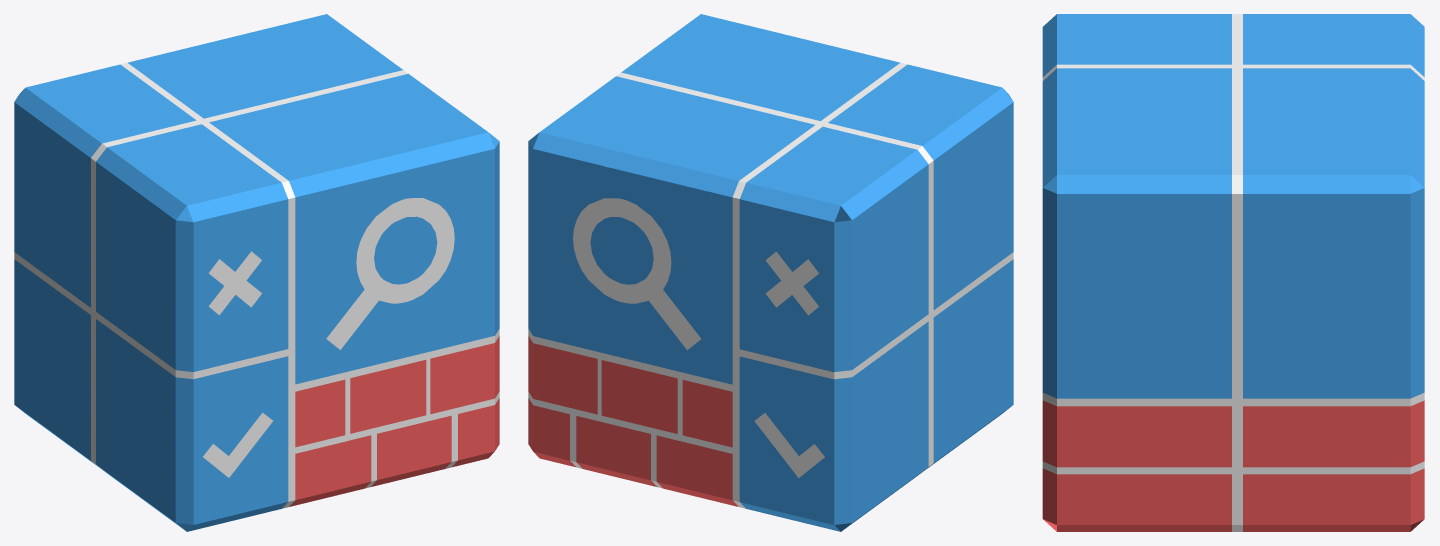
Rendered from IPS.obj.
3 views of the same model, side by side, from view 1: azimuth 30°, elevation 25°; view 2: azimuth 150°, elevation 25°; view 3: azimuth 270°, elevation 25° (orthographic). The views are drawn at different scales.
Parts seen in each view (by area): view 1: polySurface41; view 2: polySurface41; view 3: polySurface41.
Boxes of the visible parts, x1,y1,x2,y2 form: polySurface41: [14, 14, 499, 531]; polySurface41: [528, 14, 1013, 531]; polySurface41: [1042, 14, 1424, 531].
Size of the model in its own units: 0.9015 by 0.8675 by 0.8438.
